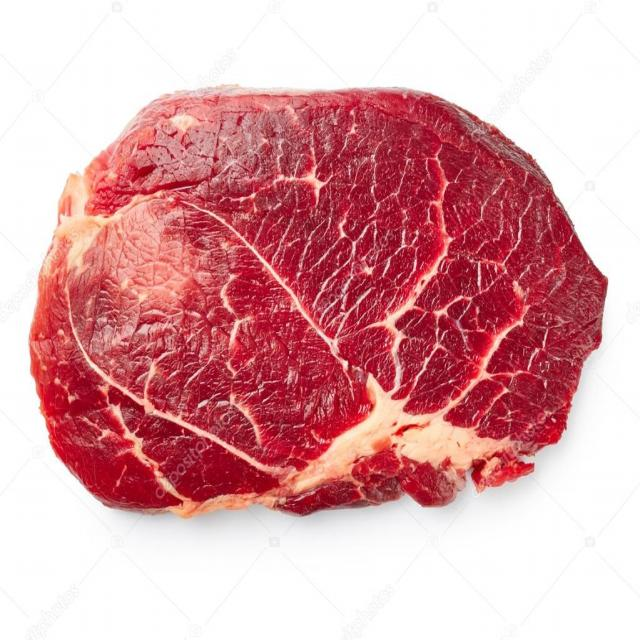beef: (30, 87, 607, 517)
